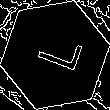L_W: (27, 32, 83, 78)
